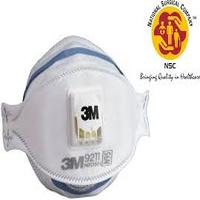flu mask: (3, 67, 156, 185)
